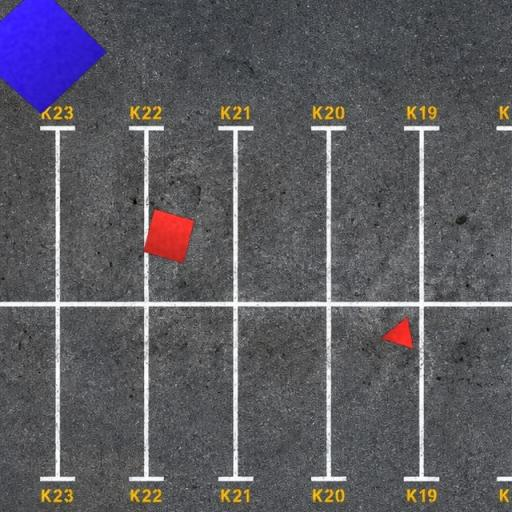BLUE_SQUARE: (0, 0, 108, 114)
RED_SQUARE: (142, 208, 196, 264)
